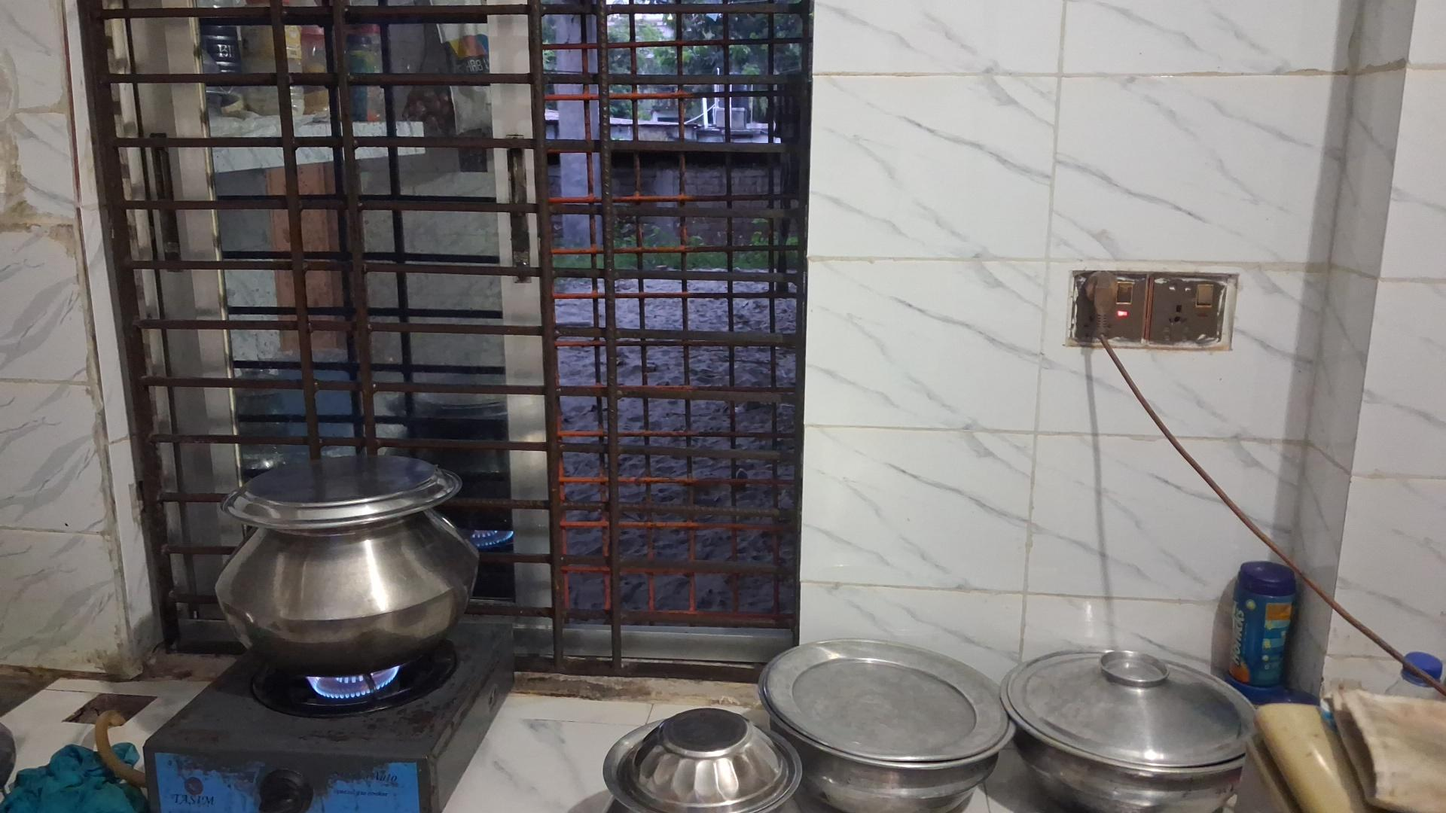Bowl: (617, 709, 785, 803)
Jar: (1225, 554, 1299, 696)
Pot: (214, 462, 475, 672), (763, 632, 1008, 805), (1010, 643, 1251, 813)
Window: (104, 5, 822, 689)
